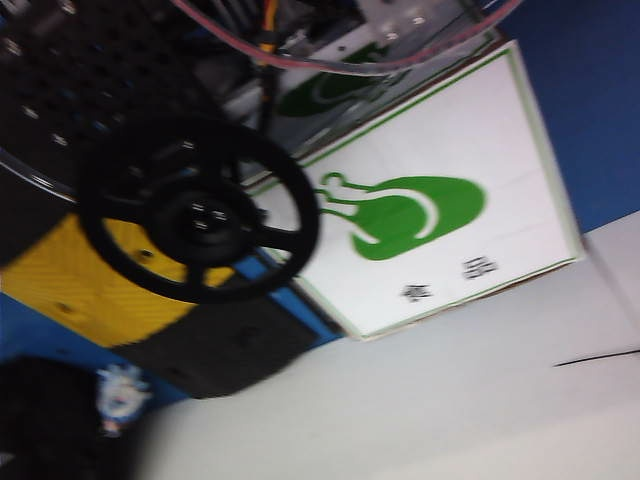Cube_food: (311, 159, 507, 312)
